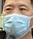with_mask: (1, 2, 33, 39)
